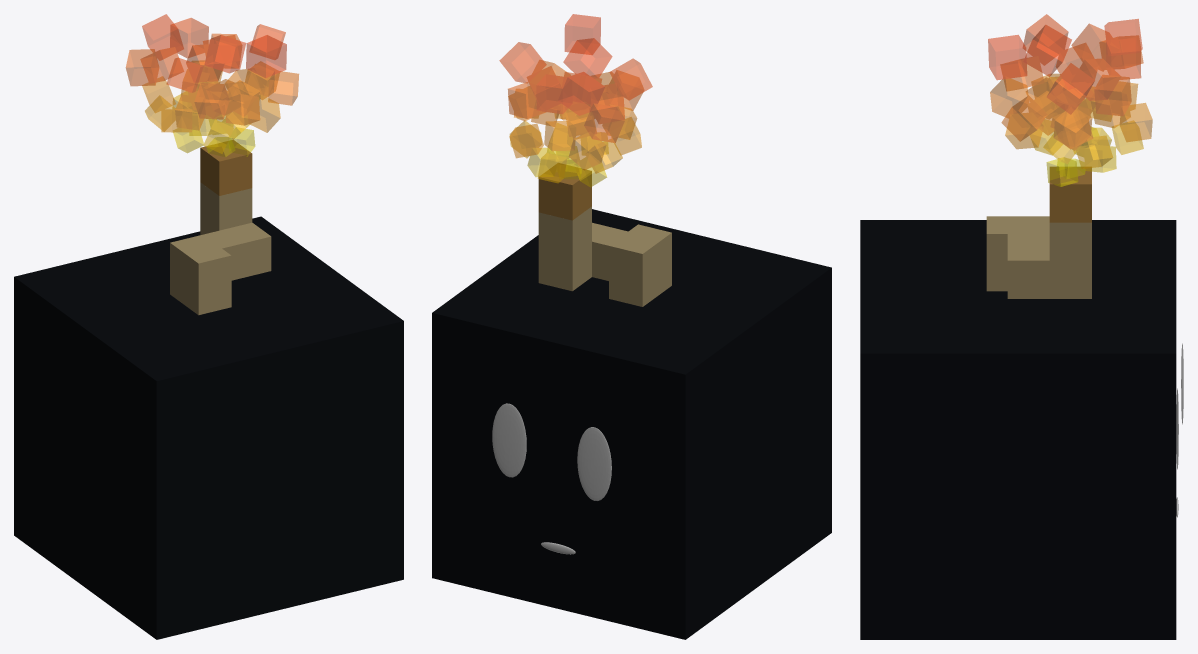
File: bomb.obj
3 renders of one model, left to right at view 1: azimuth 30°, elevation 25°; view 2: azimuth 150°, elevation 25°; view 3: azimuth 270°, elevation 25°, orthographic. The views are drawn at different scales.
Parts seen in each view (by area): view 1: BombBase; view 2: BombBase, Eye1, Eye2; view 3: BombBase.
Boxes of the visible parts, x1,y1,x2,y2 form: BombBase: (14, 14, 403, 639); BombBase: (432, 14, 831, 639); Eye1: (492, 403, 526, 477); Eye2: (577, 427, 611, 500); BombBase: (860, 14, 1176, 639).
Bounding box in the file's own units: 1.5 × 2.94 × 1.54.
